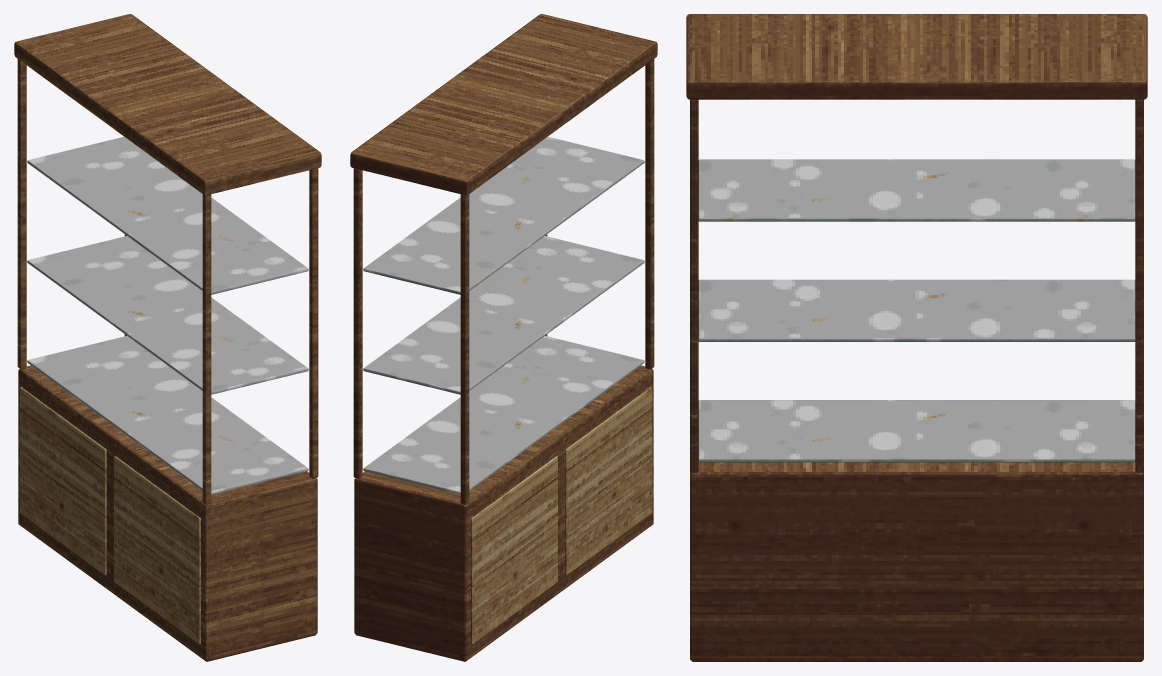
File: glass_showcase.glb
3 views of the same model, side by side, from view 1: azimuth 30°, elevation 25°; view 2: azimuth 150°, elevation 25°; view 3: azimuth 270°, elevation 25° (orthographic). The views are drawn at different scales.
Visible parts, largest first — view 1: mesh; view 2: mesh; view 3: mesh.
Boxes of the visible parts, <box> form: mesh: <box>14,14,321,661</box>; mesh: <box>350,14,657,661</box>; mesh: <box>686,14,1147,661</box>.
Bounding box in the file's own units: 0.47 × 1.84 × 1.32.
Materials: 1 (1 with a texture image).
